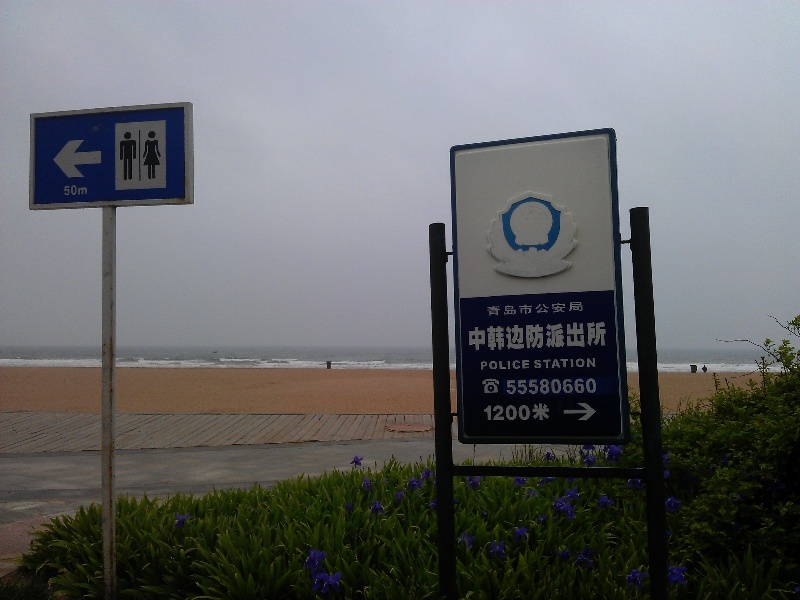text: (593, 321, 609, 352), (481, 321, 496, 352), (497, 321, 512, 352), (513, 321, 528, 352), (529, 321, 544, 352), (545, 321, 560, 352), (561, 321, 576, 352), (577, 321, 592, 352), (467, 321, 480, 352), (513, 377, 528, 395), (529, 377, 544, 395), (545, 377, 560, 395), (561, 377, 576, 395), (577, 377, 592, 395), (497, 403, 512, 421), (513, 403, 528, 421), (529, 403, 544, 421), (497, 301, 512, 317), (513, 301, 528, 317), (529, 301, 544, 317), (545, 301, 560, 317), (561, 301, 576, 317), (484, 403, 496, 421), (65, 184, 80, 197), (481, 359, 496, 372), (497, 359, 512, 372), (513, 359, 528, 372), (545, 358, 560, 370), (561, 358, 576, 370), (577, 358, 592, 370), (487, 301, 496, 317), (533, 358, 544, 370), (577, 301, 585, 317), (506, 377, 512, 395), (545, 403, 551, 421), (81, 184, 89, 197), (593, 377, 598, 395), (593, 358, 597, 370), (529, 359, 531, 372)
